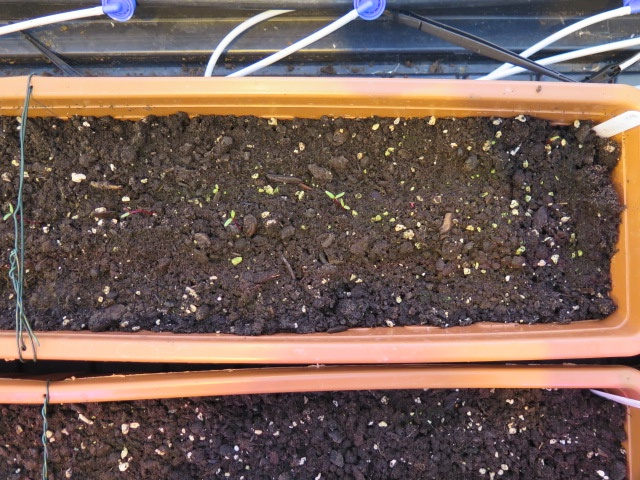crop: (322, 187, 347, 203), (220, 208, 238, 228), (339, 202, 354, 213), (210, 181, 221, 194)
